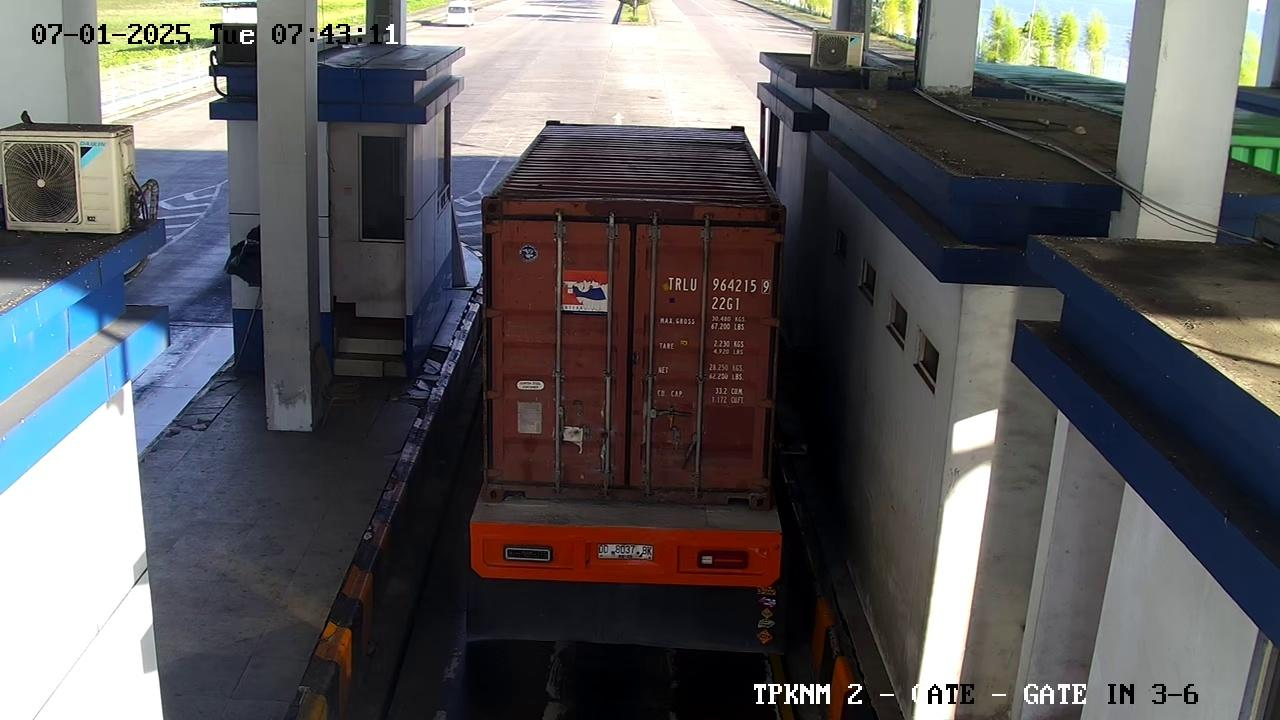Container_ID: (651, 271, 784, 297)
plate_number: (587, 536, 668, 584)
